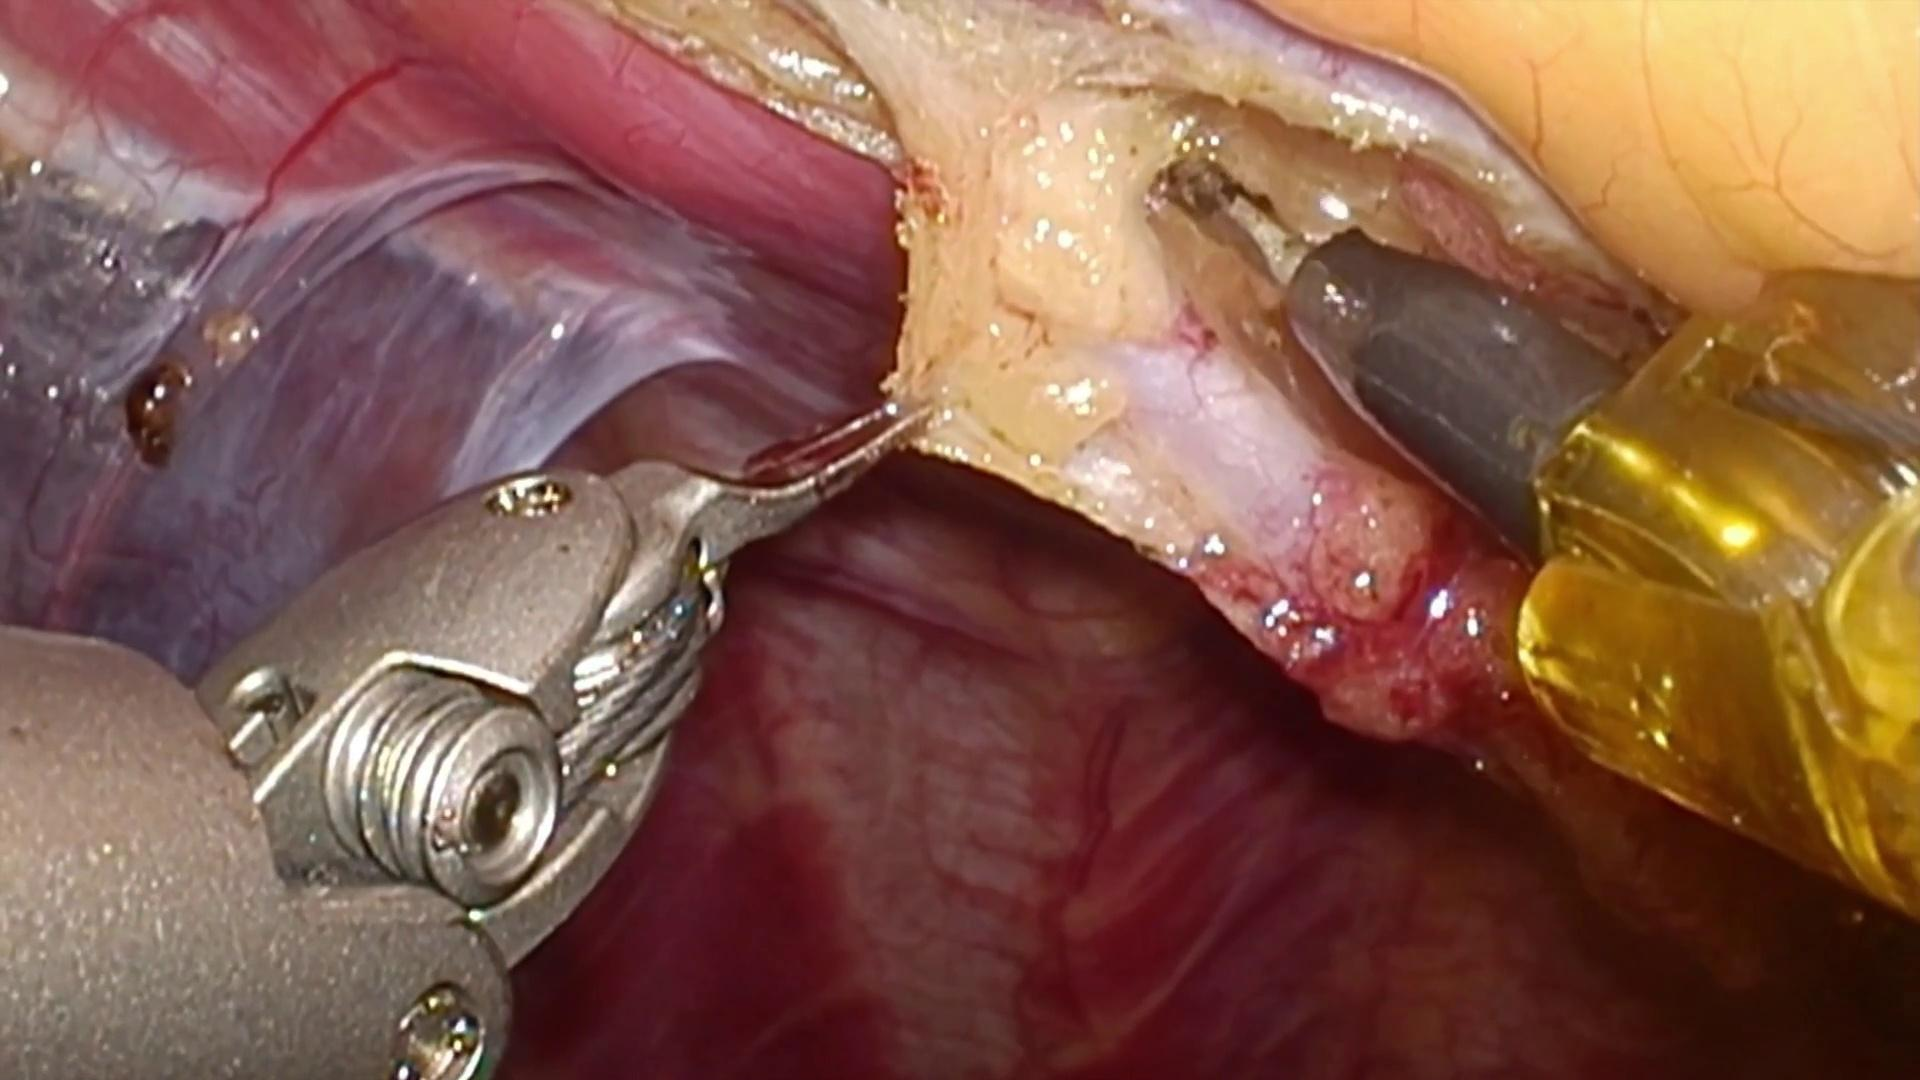Cautery_Spatula: (1168, 158, 1640, 567)
Debakey: (608, 355, 967, 578)
